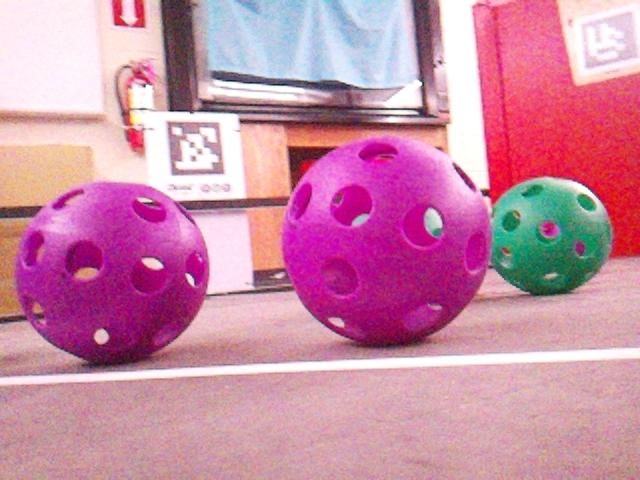Green: (486, 176, 613, 294)
Purple: (282, 136, 490, 342), (15, 182, 209, 363)
